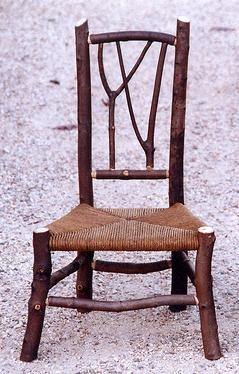obstacle: (20, 19, 221, 361)
